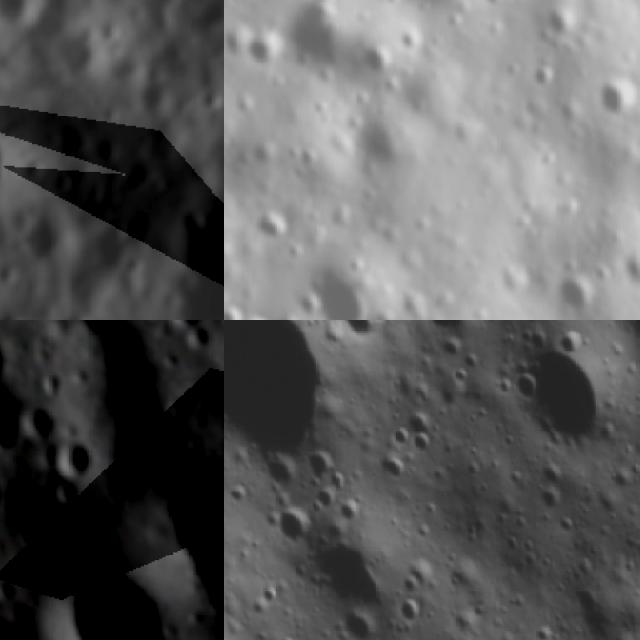crater: (224, 320, 361, 507), (117, 426, 224, 632), (19, 526, 205, 640), (500, 320, 623, 461), (155, 142, 224, 320), (8, 191, 81, 268), (279, 0, 354, 73), (84, 205, 154, 276), (310, 257, 377, 320), (43, 426, 108, 490), (54, 24, 112, 84), (14, 398, 72, 455), (0, 395, 38, 464), (334, 320, 402, 350), (136, 74, 179, 119), (177, 320, 224, 361), (598, 76, 636, 123), (51, 116, 92, 159), (0, 323, 23, 399), (45, 473, 86, 515), (0, 0, 55, 31), (556, 276, 600, 314), (242, 28, 283, 68), (249, 207, 289, 247), (93, 7, 128, 49), (545, 2, 582, 40), (191, 78, 224, 119), (0, 460, 18, 534), (361, 42, 393, 78), (417, 320, 483, 336), (295, 288, 324, 320), (620, 245, 640, 290), (162, 320, 209, 336), (398, 28, 423, 54), (531, 65, 556, 91), (0, 301, 30, 320), (134, 320, 176, 332), (224, 301, 242, 320)
